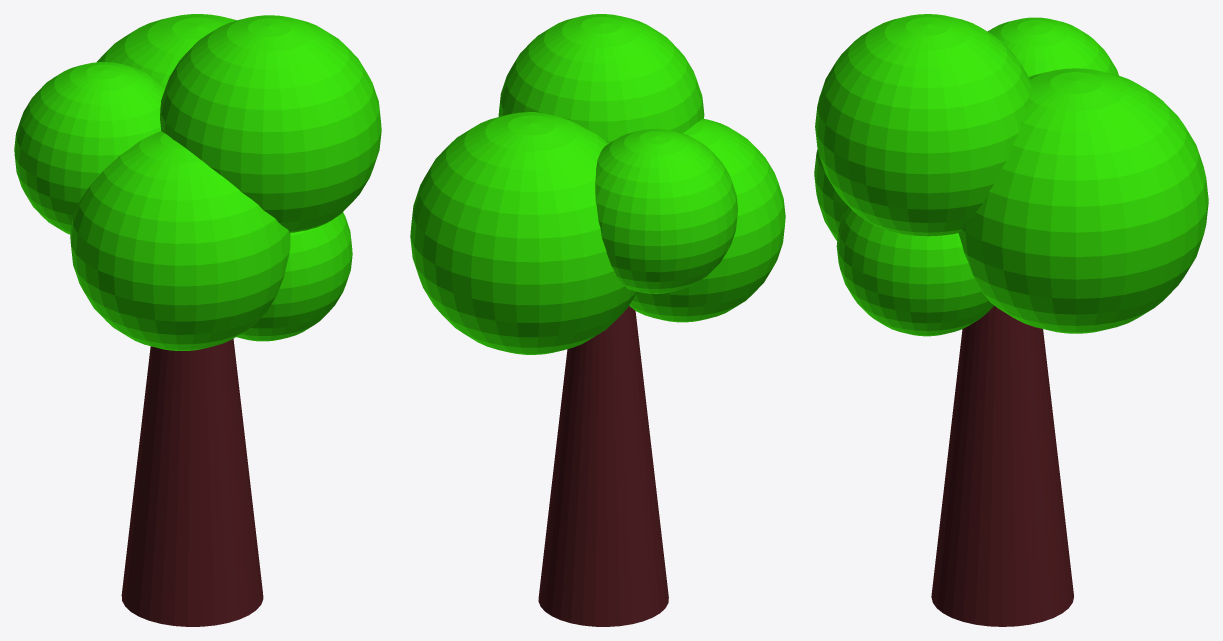
File: tree.glb
The picture shows the model from 3 angles, left to right: view 1: azimuth 30°, elevation 25°; view 2: azimuth 150°, elevation 25°; view 3: azimuth 270°, elevation 25°; orthographic projection. The views are drawn at different scales.
Visible parts, largest first — view 1: Sphere.004; view 2: Sphere.004; view 3: Sphere.004.
Part boxes in pixels (<box>): Sphere.004: <box>14,14,381,626</box>; Sphere.004: <box>410,14,785,626</box>; Sphere.004: <box>814,14,1208,626</box>.
Size of the model in its own units: 5.33 by 9.77 by 5.91.
